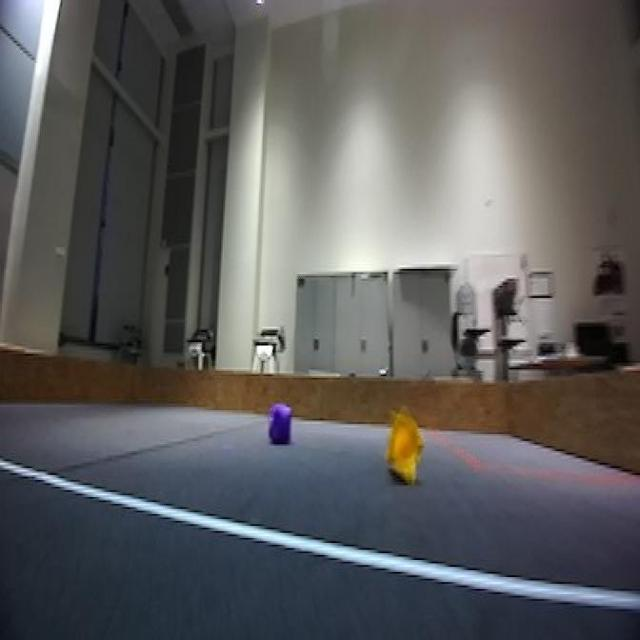frc_cone: (383, 403, 429, 492)
frc_cube: (268, 405, 293, 449)
